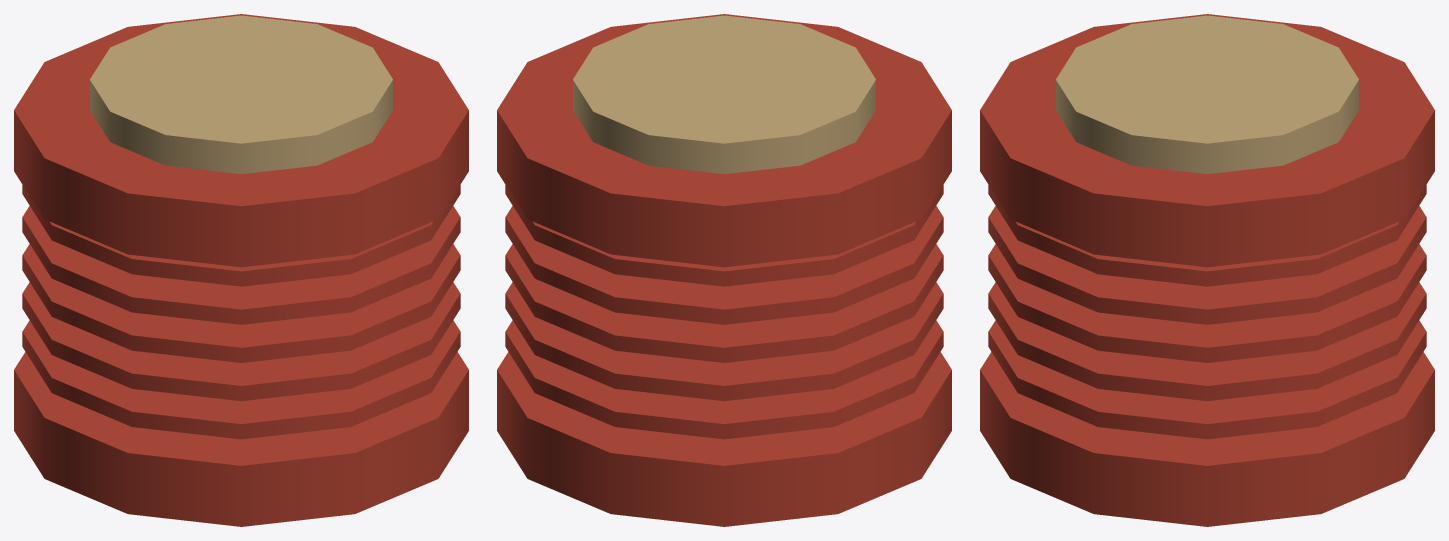
Rendered from thread_spool.glb.
3 views of the same model, side by side, from view 1: azimuth 30°, elevation 25°; view 2: azimuth 150°, elevation 25°; view 3: azimuth 270°, elevation 25° (orthographic).
Visible parts, largest first — view 1: thread_spool; view 2: thread_spool; view 3: thread_spool.
Part boxes in pixels (<box>): thread_spool: <box>14,14,468,526</box>; thread_spool: <box>497,14,951,526</box>; thread_spool: <box>980,14,1434,526</box>.
Bounding box in the file's own units: 0.054 × 0.05 × 0.054.
